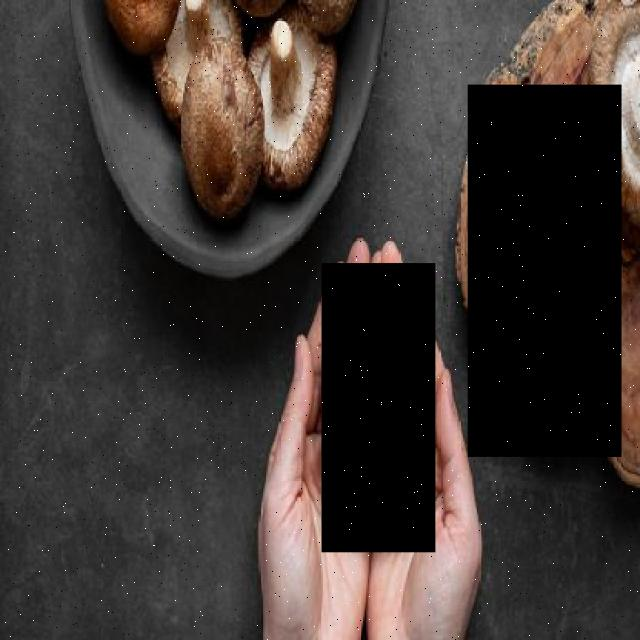Mushroom: (467, 85, 622, 458), (322, 263, 436, 552)
